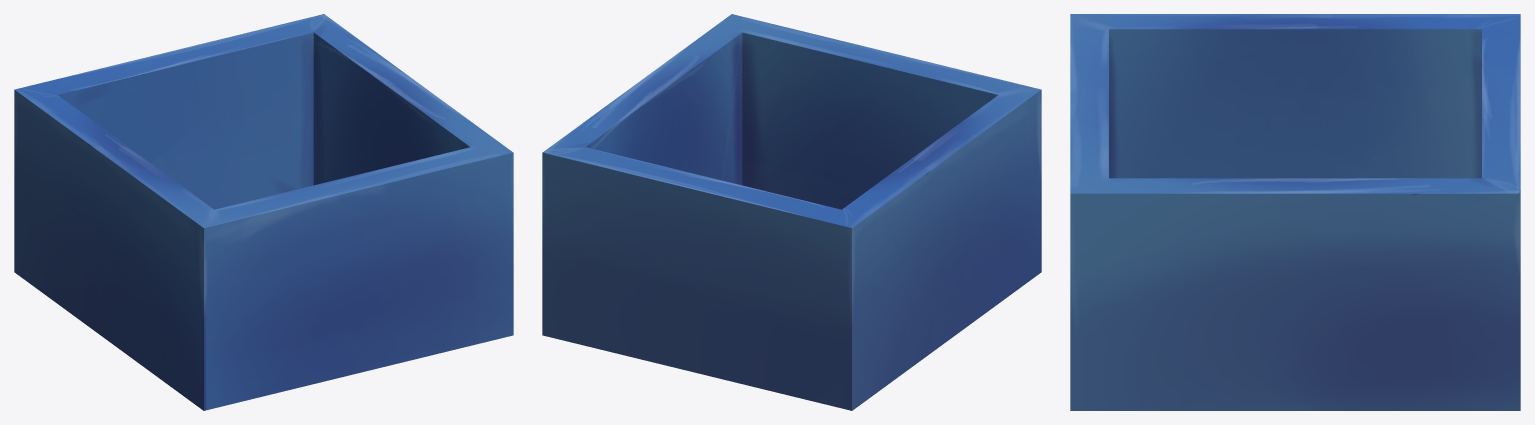
File: Coca toppin.fbx
3 views of the same model, side by side, from view 1: azimuth 30°, elevation 25°; view 2: azimuth 150°, elevation 25°; view 3: azimuth 270°, elevation 25° (orthographic). The views are drawn at different scales.
Parts seen in each view (by area): view 1: Cube; view 2: Cube; view 3: Cube.
Boxes of the visible parts, x1=… form: Cube: x1=14, y1=14, x2=513, y2=410; Cube: x1=542, y1=14, x2=1041, y2=410; Cube: x1=1070, y1=14, x2=1520, y2=410.
Size of the model in its own units: 212 by 119 by 224.
Materials: 1 (1 with a texture image).
